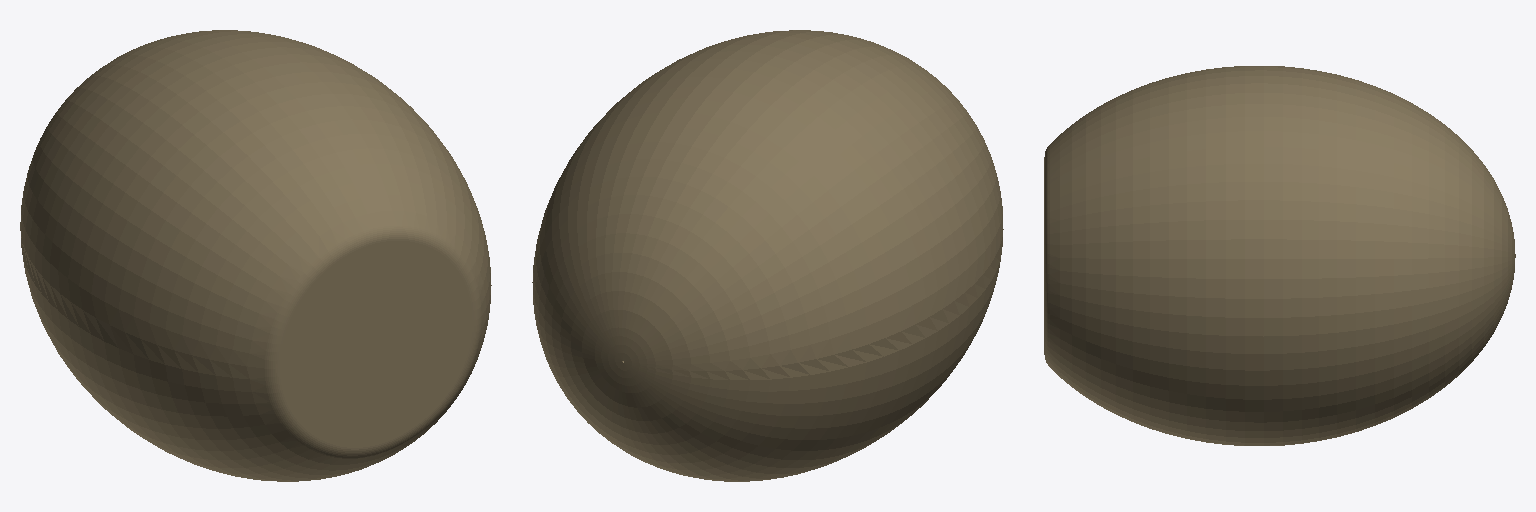
robot.urdf — Egg:
<?xml version="1.0"?>
<robot name="Egg">
  <link name="base_link">
    <visual>
      <origin xyz="0 0 0" rpy="0 0 0" />
      <geometry>
        <mesh filename="Egg.obj"/>      
      </geometry>
      <material name="tan">
        <color rgba="0.55 0.5 0.4 1"/>
      </material>
    </visual>
    <collision>
      <origin xyz="0 0 0" rpy="0 0 0" />
      <geometry>
        <mesh filename="Egg.obj"/>
      </geometry>
    </collision>
  </link>
</robot>

--- Render facts (derived) ---
3 views of the same robot in one strip: view 1: azimuth 30°, elevation 25°; view 2: azimuth 150°, elevation 25°; view 3: azimuth 270°, elevation 25° (orthographic).
Model Egg with 1 links and 0 joints (none), rooted at base_link, posed every joint at zero.
Visible links, largest first — view 1: base_link; view 2: base_link; view 3: base_link.
Link boxes in pixels (x1,y1,x2,y2): base_link: (20,30,491,481); base_link: (532,30,1003,481); base_link: (1044,66,1515,445).
Size in the robot's own frame: 25.5 by 31.52 by 25.49 metres.
Meshes: 1 distinct files referenced, 1 mesh visuals loaded (1 OBJ).
